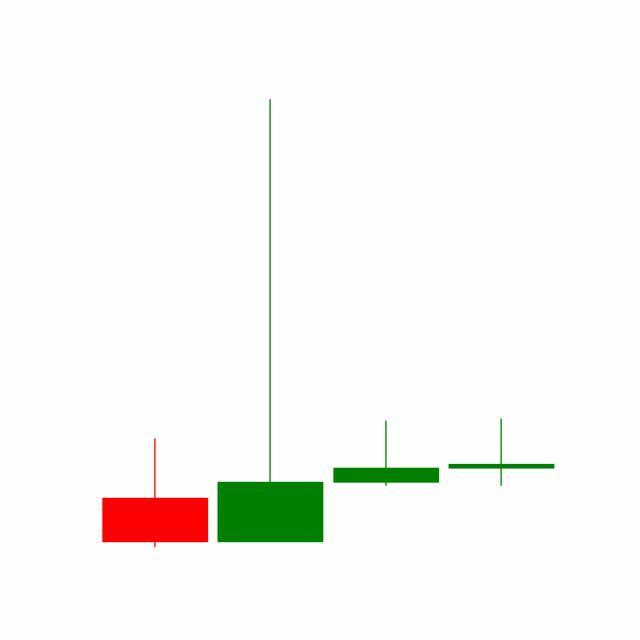Gravestone Doji: (444, 418, 560, 488)
